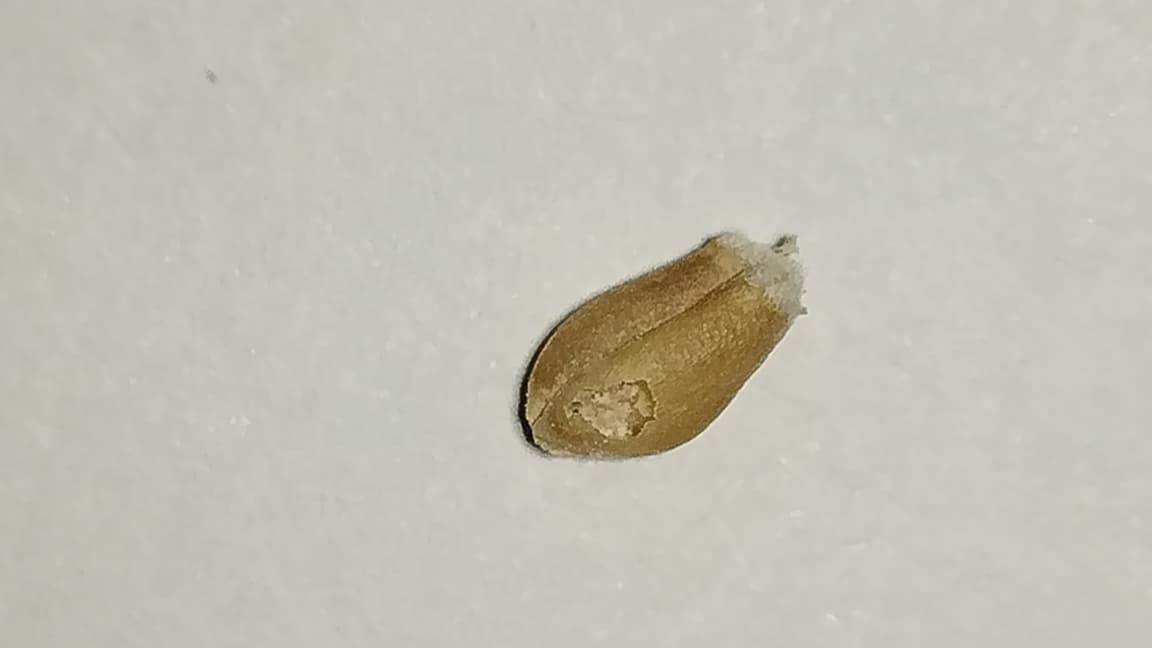damage: (516, 234, 805, 462)
insectdamage: (564, 367, 663, 444)
molddamage: (712, 229, 805, 325)
